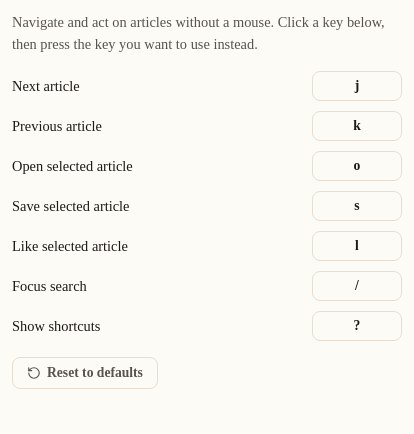
Scenario: KeyboardShortcutsSettings › shows an error when the chosen key is already in use
This screenshot has width=414, height=434.
Click the button "j": click(357, 86) x1=312 y1=71 x2=402 y2=101
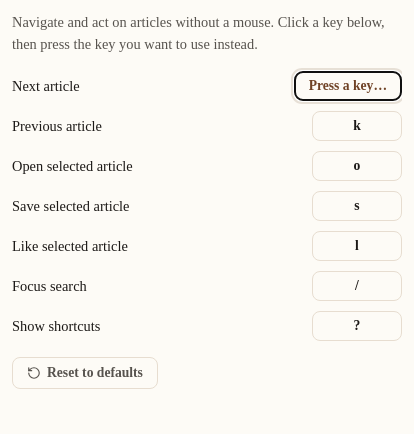
Type keys "k"
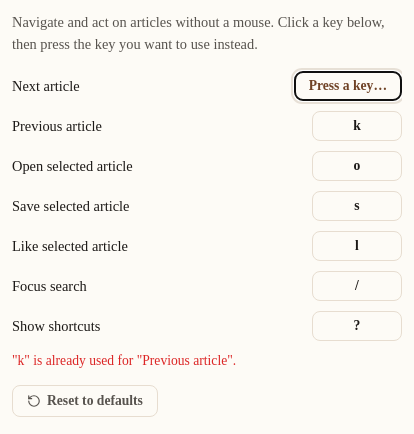
Check: the button "Press a key…" is shown, box x1=294 y1=71 x2=402 y2=101
Check: the text "\"k\" is already used for \"Previous article\"." is shown, box x1=12 y1=353 x2=236 y2=368
